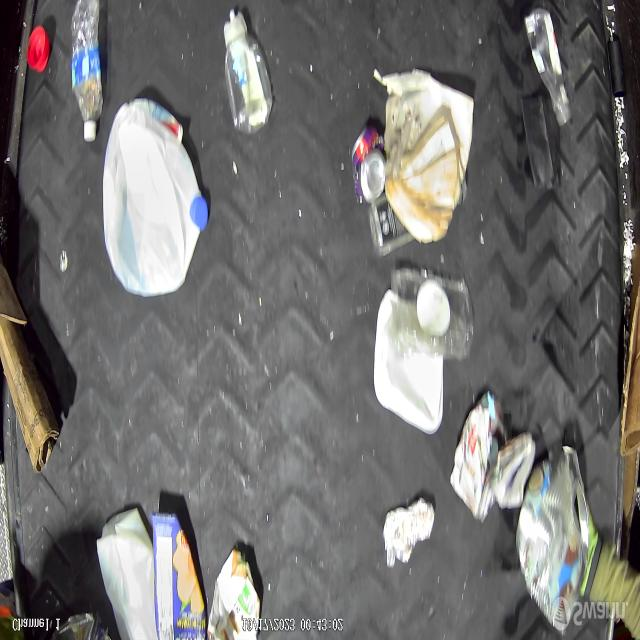can: (352, 122, 388, 206)
milk_jug: (104, 102, 209, 297), (96, 508, 156, 640)
plastic_bottle: (222, 5, 274, 134), (524, 5, 570, 131), (68, 2, 103, 142)
